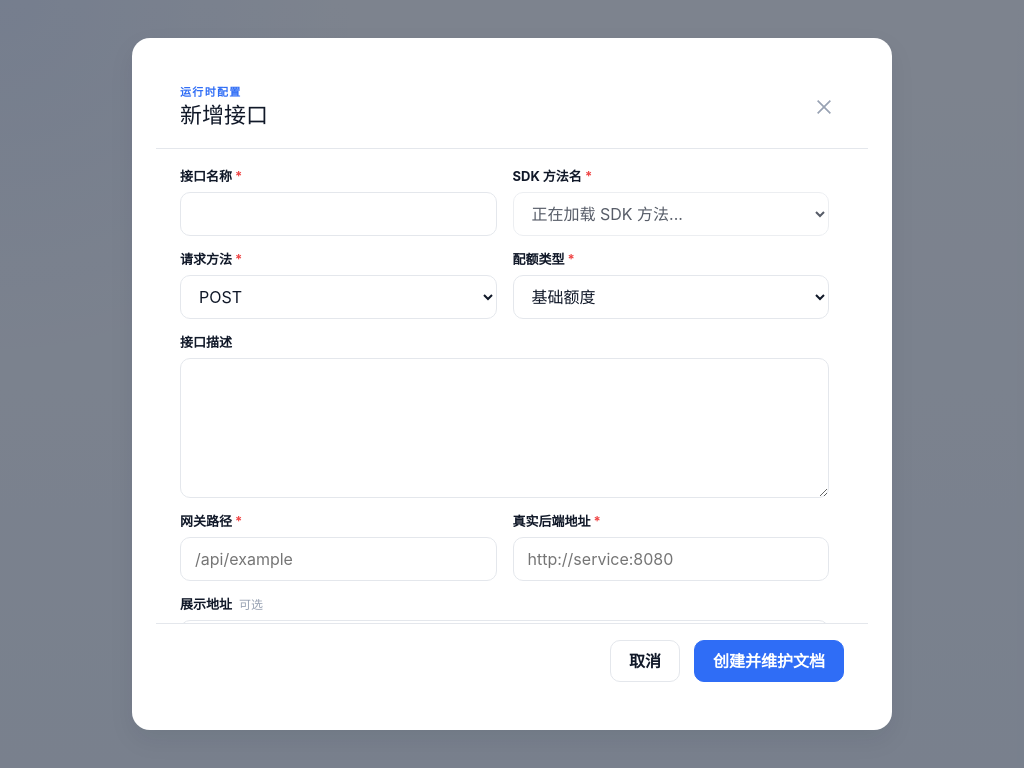
Scenario: InterfaceConfigModal › 表单修改后点击关闭按钮要求确认并锁定底层表单
The width and height of the screenshot is (1024, 768).
Type "尚未保存的接口" into the field labelled "接口名称 *" at (338, 214), box x1=180 y1=192 x2=496 y2=236
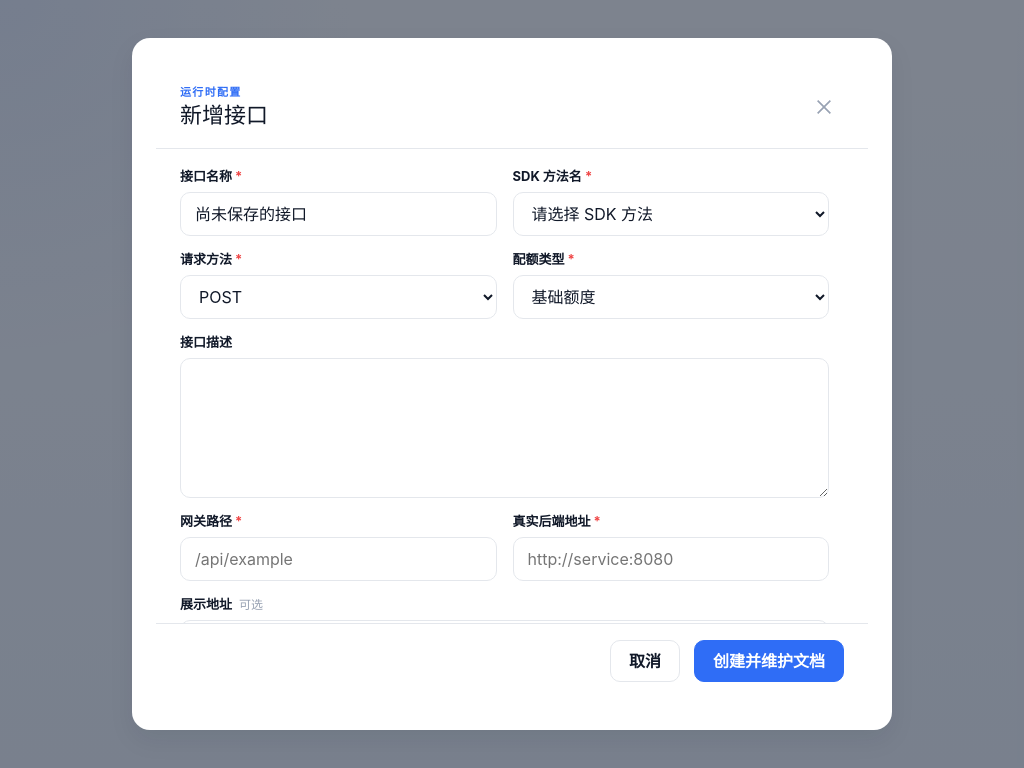
Click the button with class "fei-interface-config-modal__close" at (824, 107), box x1=804 y1=87 x2=844 y2=127
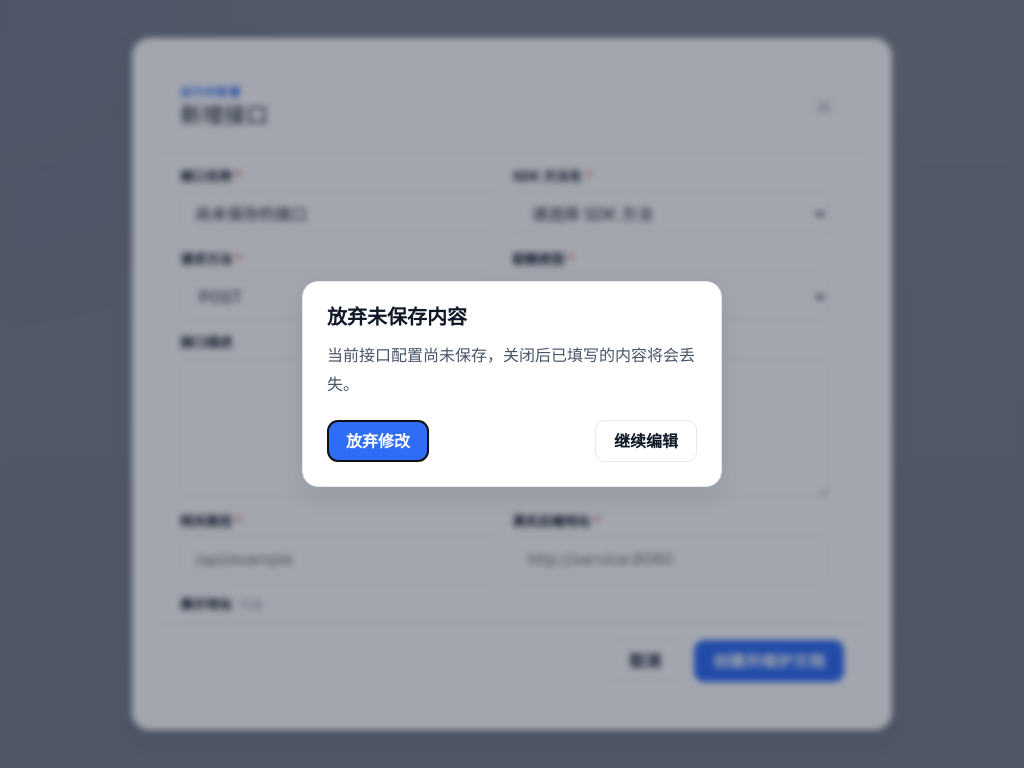
Expected: the element with class "fei-confirm-dialog" is shown, x1=302 y1=281 x2=722 y2=487
